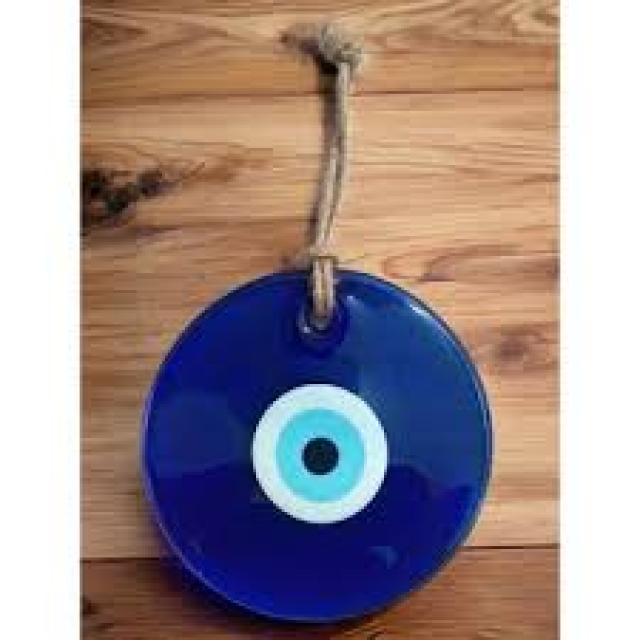Nazar-Boncugu: (139, 26, 495, 629)
